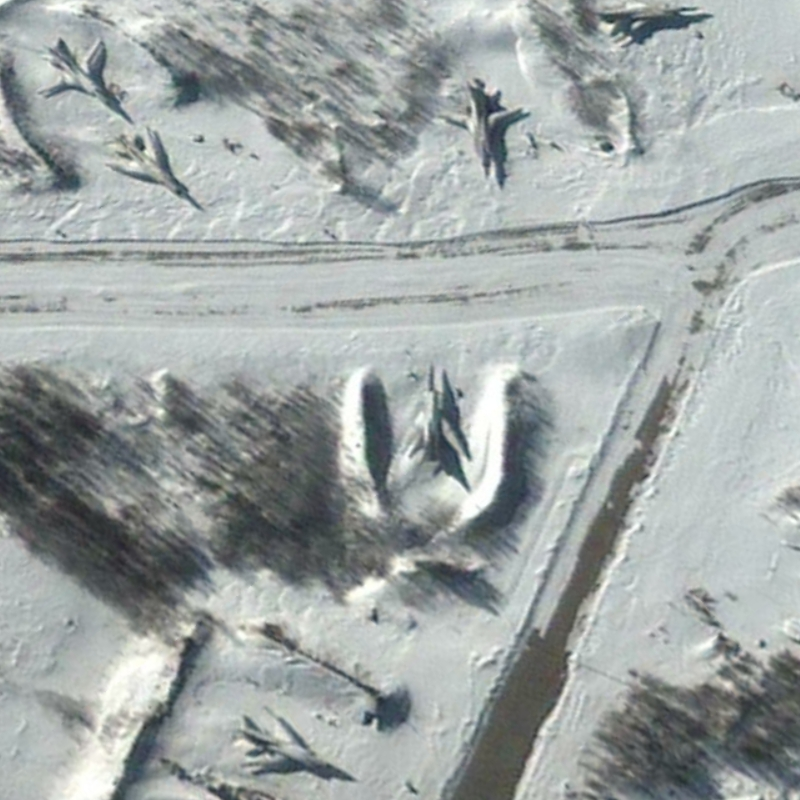A12: (430, 74, 531, 187), (381, 361, 476, 479), (228, 705, 356, 787), (34, 34, 137, 125), (97, 125, 204, 211), (577, 1, 711, 52)
